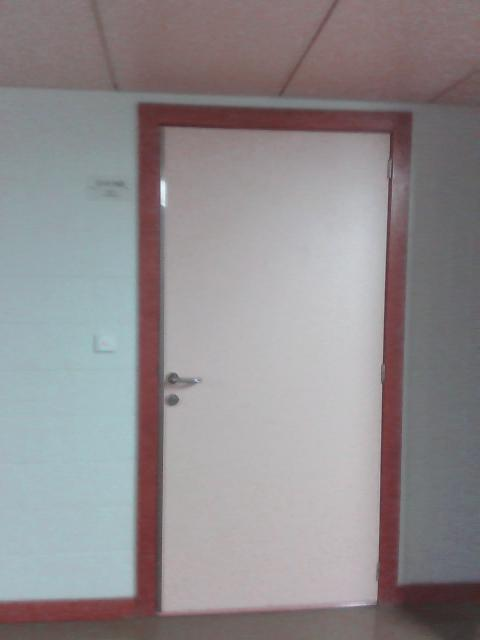closed_door: (136, 98, 413, 619)
